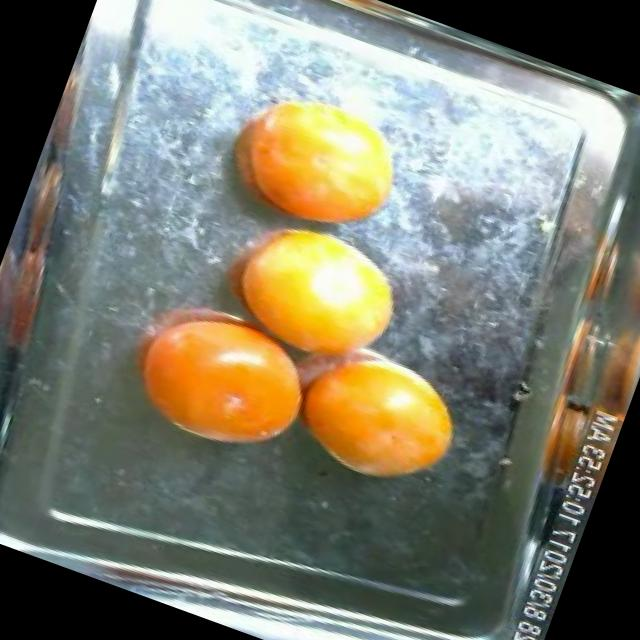Fruit: (186, 191, 434, 397), (194, 56, 436, 263), (96, 285, 334, 483), (272, 320, 488, 514)
